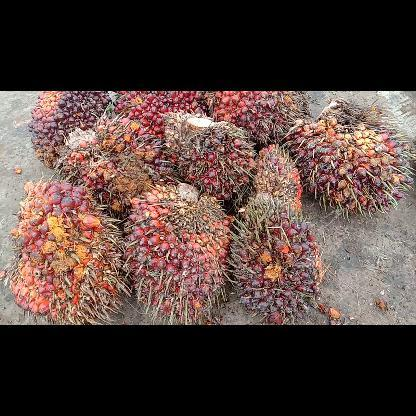TBS masak: (7, 180, 121, 322), (130, 182, 232, 324), (294, 102, 406, 218), (238, 200, 330, 322), (64, 119, 166, 213), (167, 116, 250, 209), (31, 92, 115, 170), (206, 92, 312, 147), (115, 92, 206, 138), (256, 144, 304, 216)
